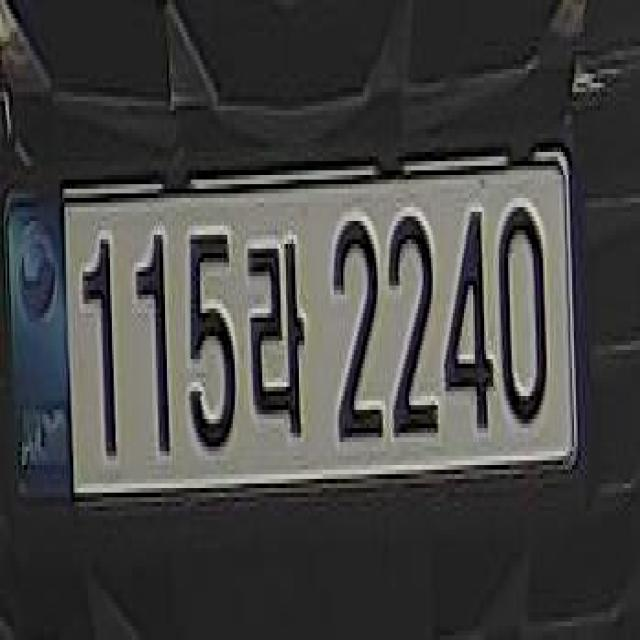illegal_plate: (12, 149, 586, 514)
